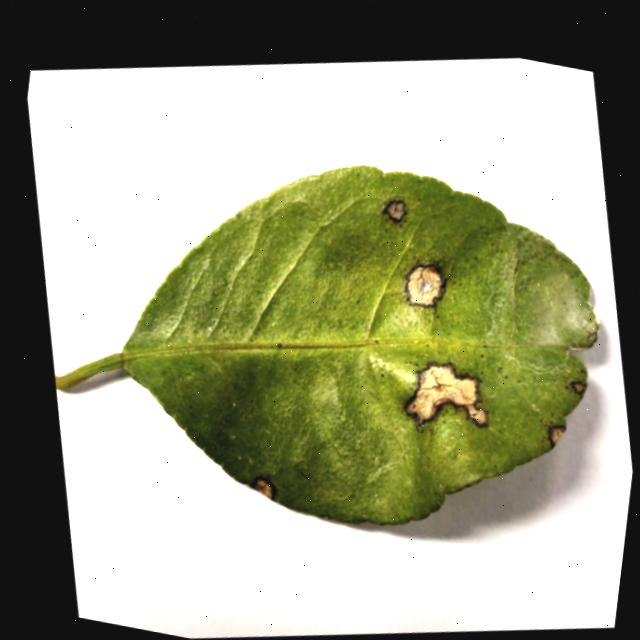antracnose: (55, 165, 597, 522), (404, 361, 486, 424), (404, 264, 442, 305), (250, 475, 273, 498), (384, 199, 403, 219), (547, 424, 564, 446), (570, 380, 586, 392)
